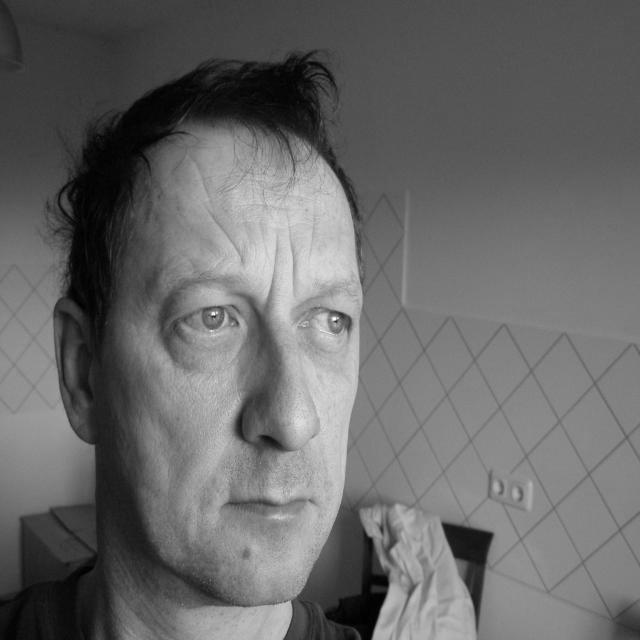real: (93, 123, 368, 610), (148, 238, 362, 386)
